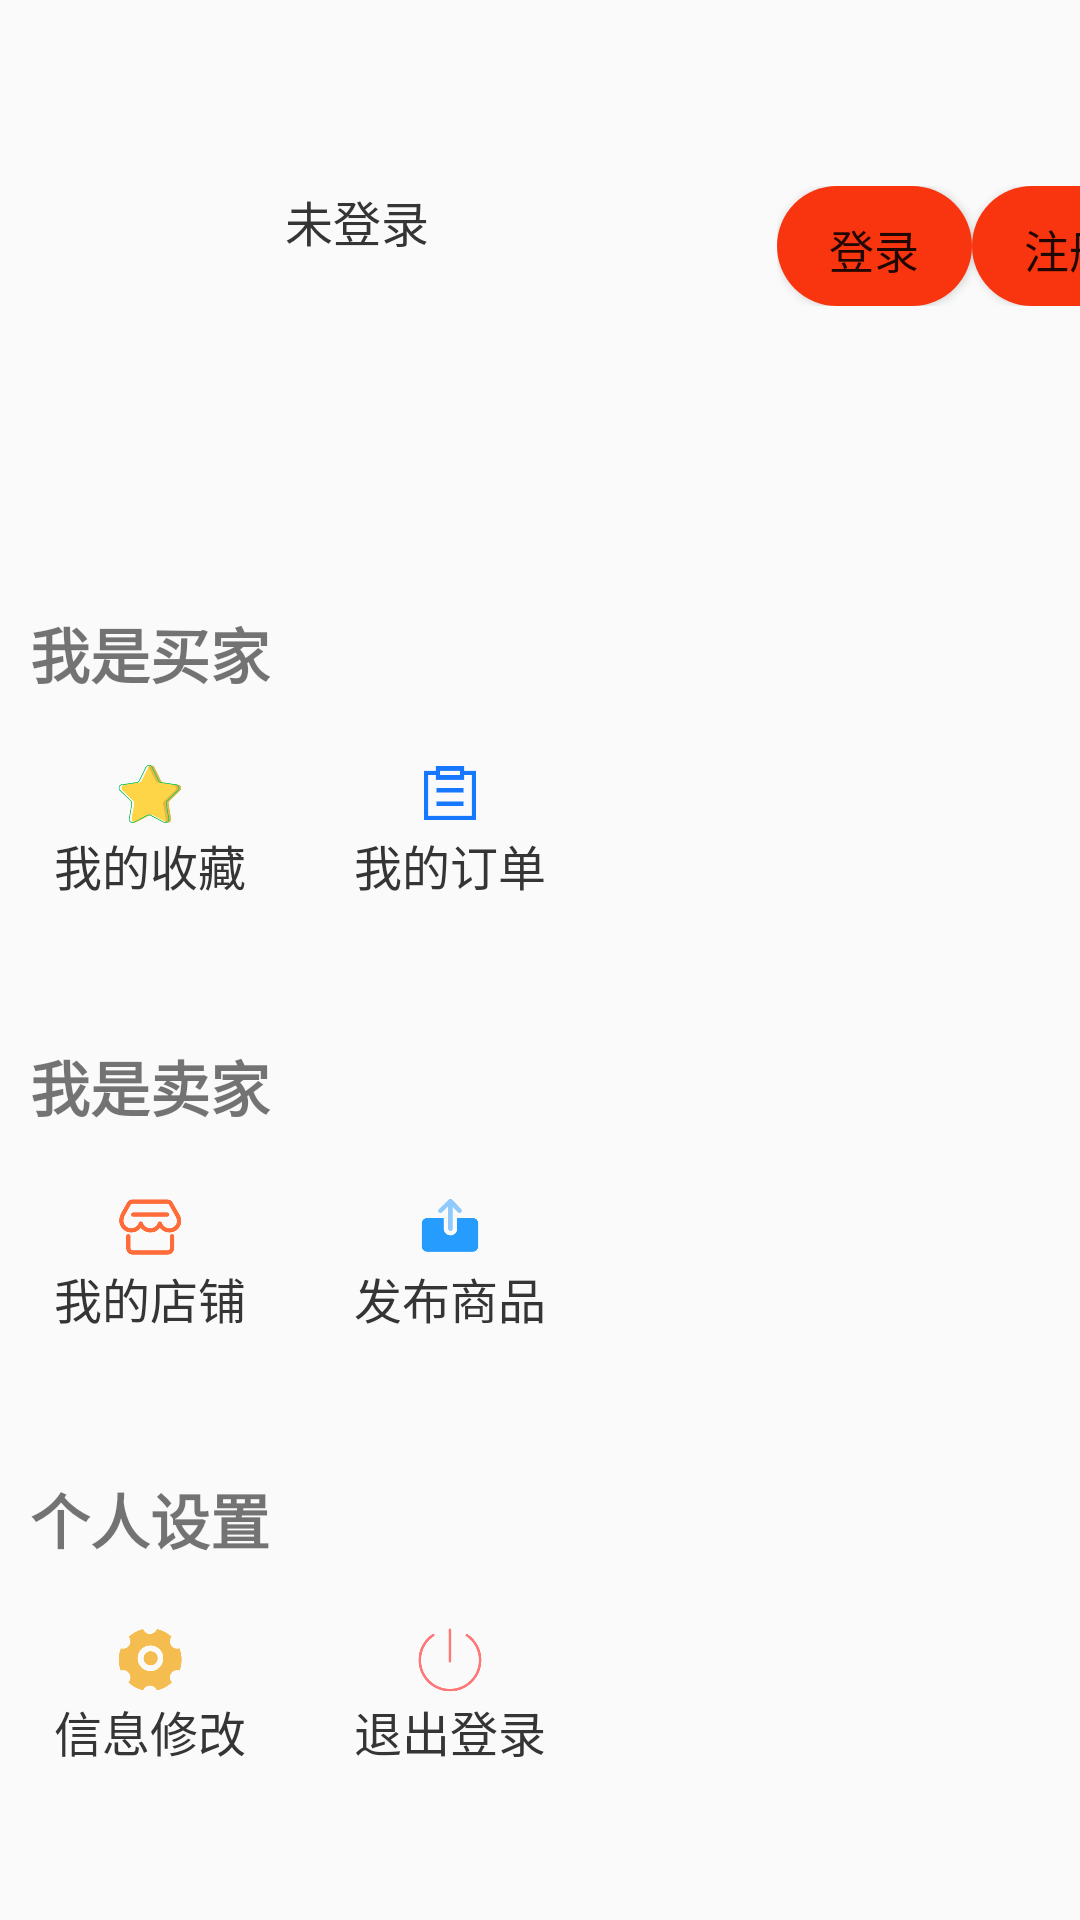

Screen size 1080px x 1920px. Icon name, then its box in pixels as (x1, y1, x2, y2):
setting: (119, 1629, 182, 1690)
